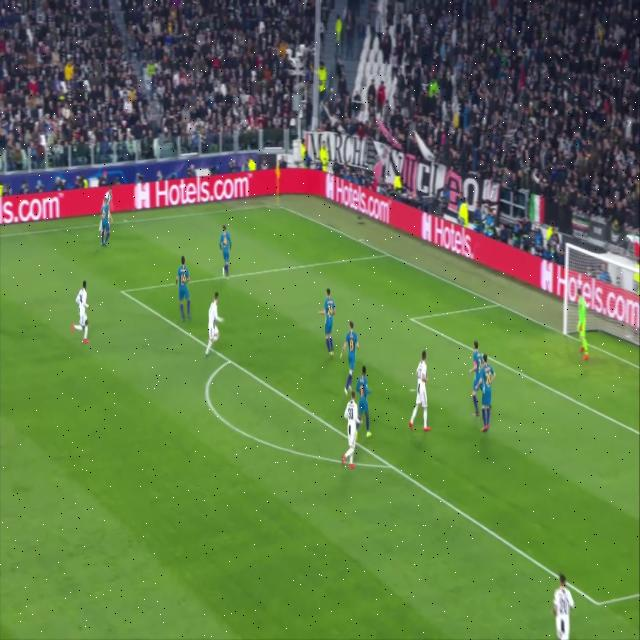GoalKeeper: (576, 286, 590, 366)
TEAM 1: (408, 350, 432, 435), (343, 394, 367, 470), (552, 574, 574, 639), (206, 291, 224, 358), (73, 280, 90, 347), (106, 180, 113, 223)
TEAM 2: (344, 321, 360, 394), (322, 286, 338, 358), (470, 342, 485, 415), (178, 258, 193, 324), (481, 356, 493, 437), (359, 369, 372, 441), (220, 223, 233, 279), (99, 198, 109, 250)
